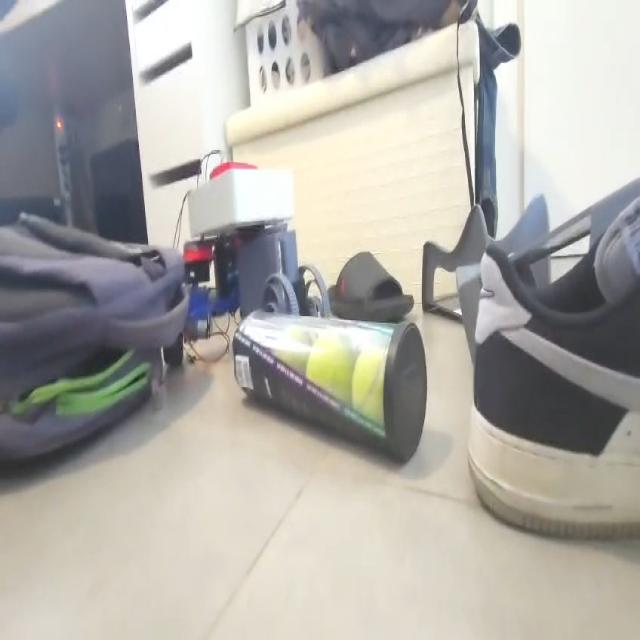Robot: (163, 157, 332, 366)
